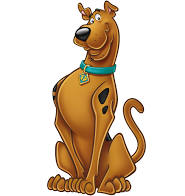scooby: (46, 1, 147, 196)
